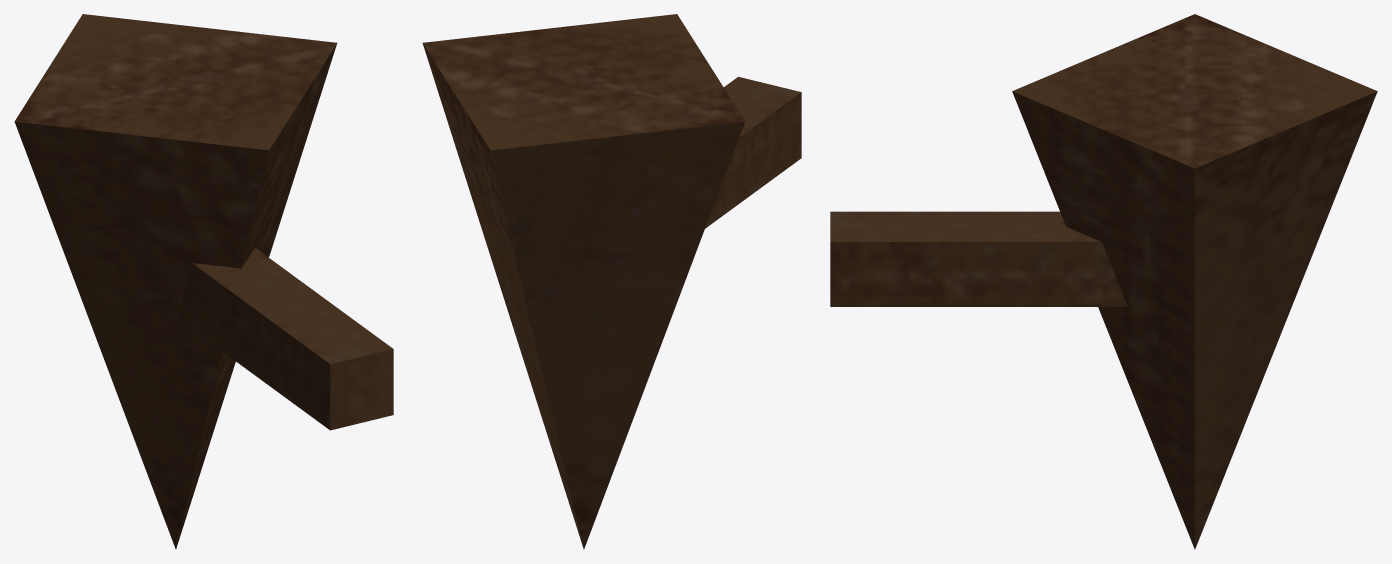
The model's file is Torch1.fbx.
3 renders of one model, left to right at view 1: azimuth 30°, elevation 25°; view 2: azimuth 150°, elevation 25°; view 3: azimuth 270°, elevation 25°, orthographic.
Parts seen in each view (by area): view 1: torch1; view 2: torch1; view 3: torch1.
Part boxes in pixels (<box>): torch1: <box>14,14,393,549</box>; torch1: <box>422,14,801,549</box>; torch1: <box>830,14,1377,549</box>.
Size of the model in its own units: 0.00409 by 0.00566 by 0.00612.
Materials: 1 (1 with a texture image).
